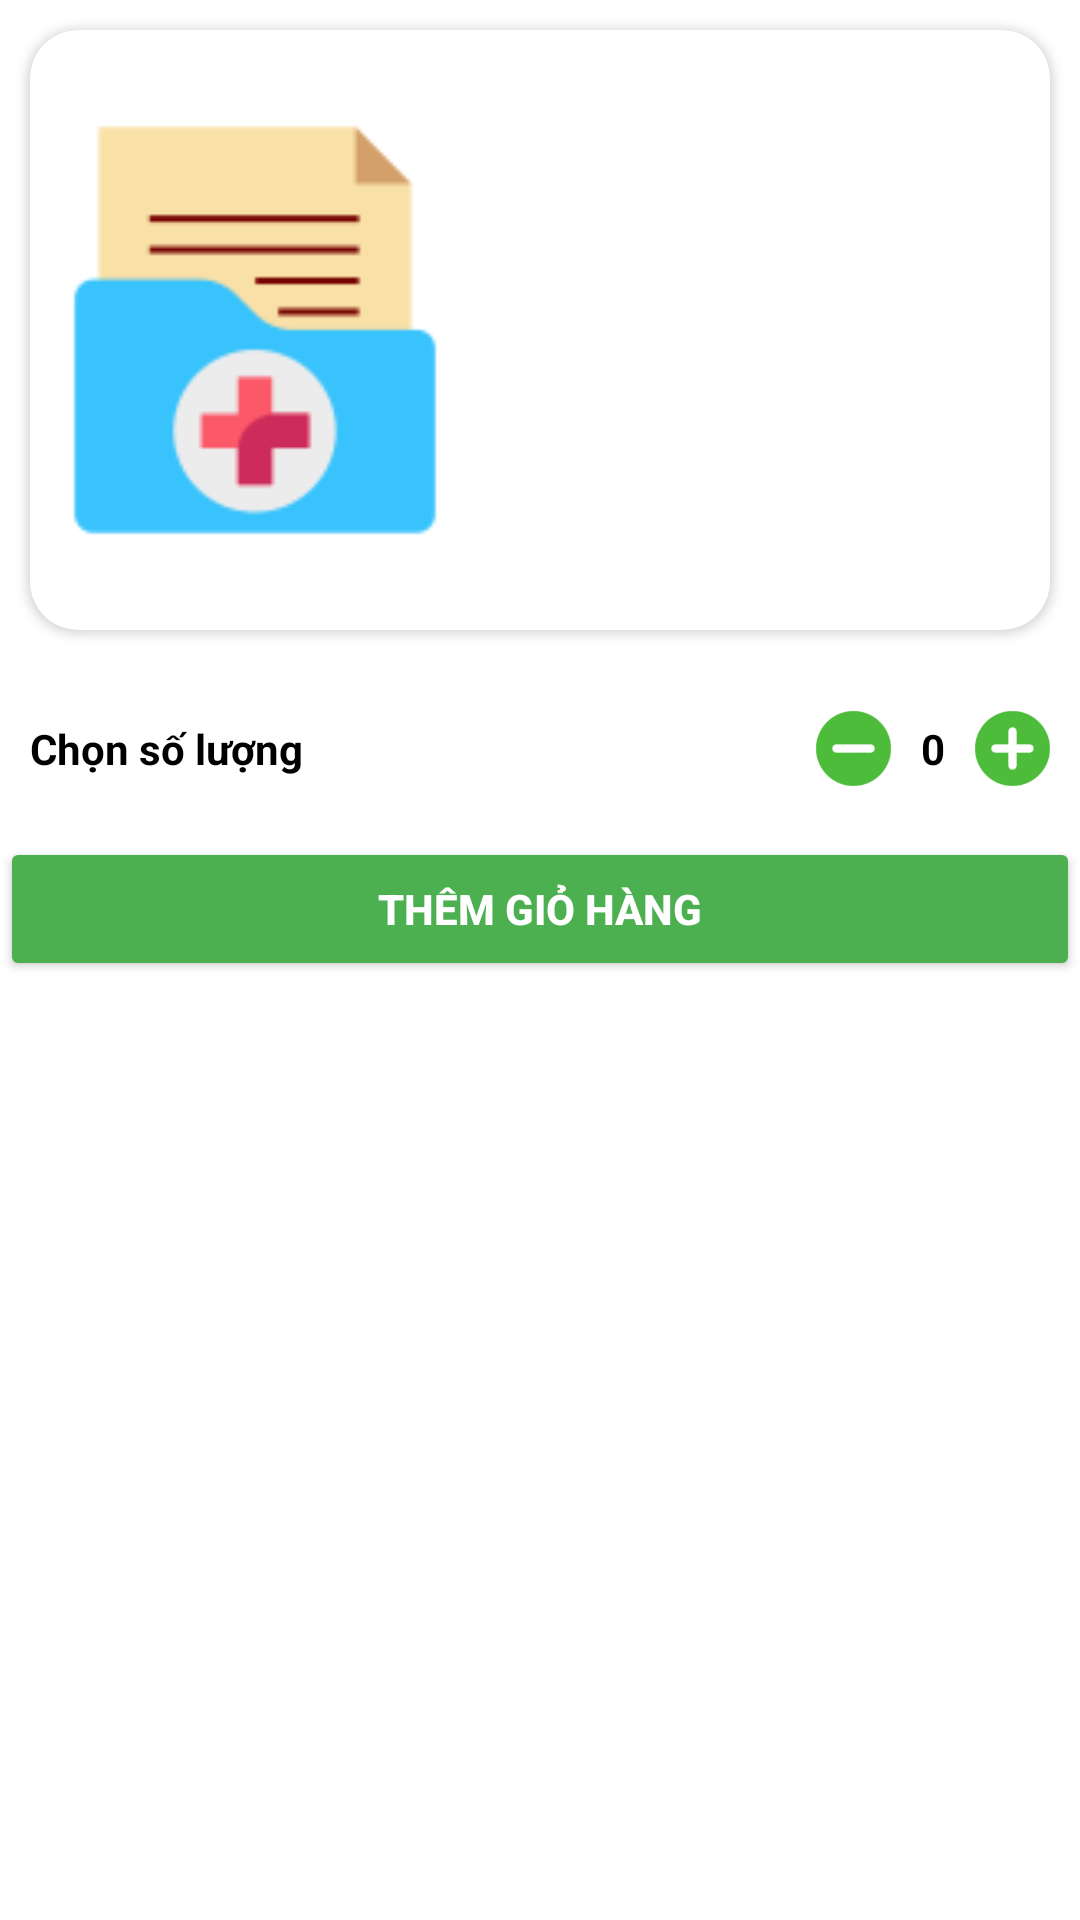

Point at icon controls on the screen. Image size 1080x1920, points as (x,y).
minus: (853,748)
plus: (1012,748)
